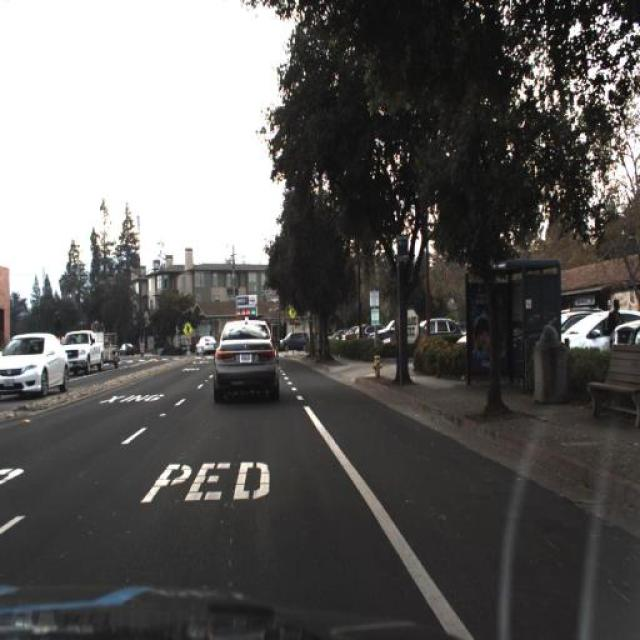car: (211, 307, 283, 402), (550, 305, 640, 375), (0, 326, 70, 405), (58, 326, 104, 382), (417, 304, 463, 350), (276, 318, 310, 358), (192, 324, 219, 367), (377, 310, 402, 352), (194, 324, 218, 360), (119, 340, 136, 360), (122, 338, 136, 362)
trafficLight: (610, 296, 622, 364)
